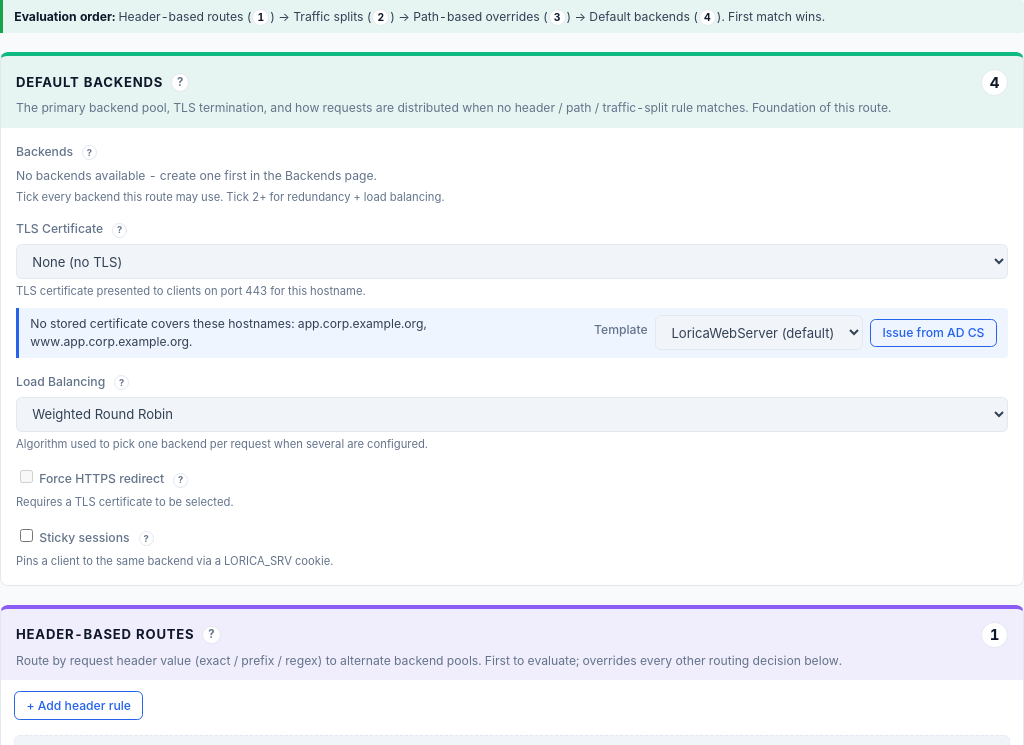
it: RoutingTab AD CS issuance › shows a pending answer inline and leaves the selection alone
Click the button "Issue from AD CS" at (933, 333), box [870,318,997,347]
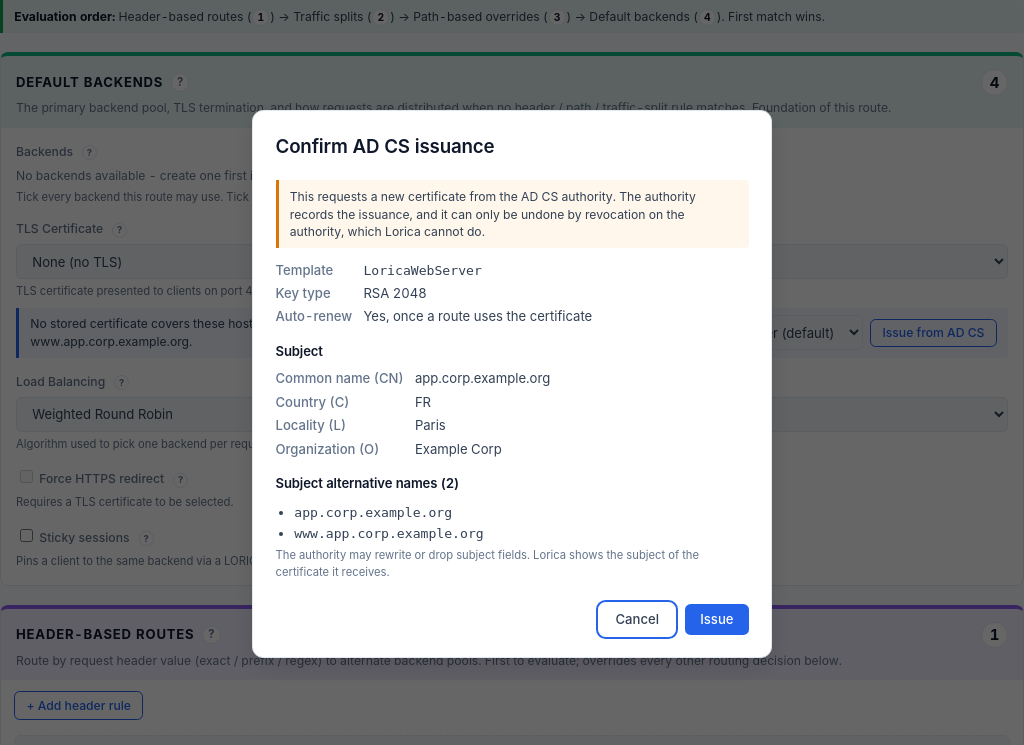
Click the button "Issue" at (717, 619), box [685,604,748,634]
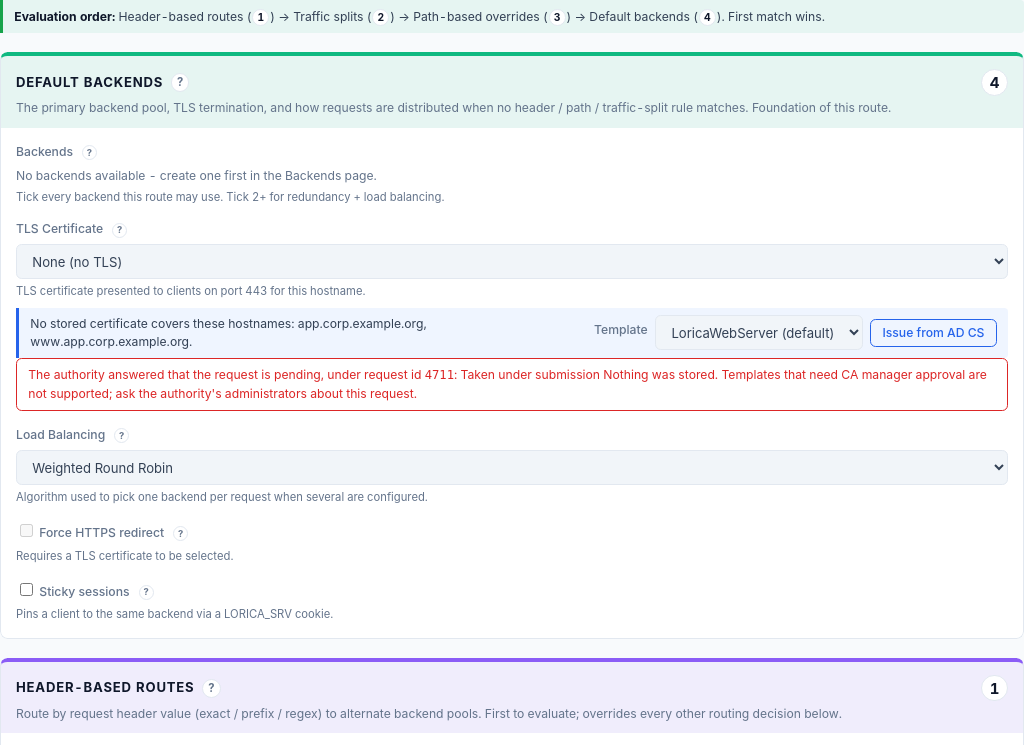
Expected: the message with test id "adcs-route-outcome" shows "4711", [425,368,454,382]
